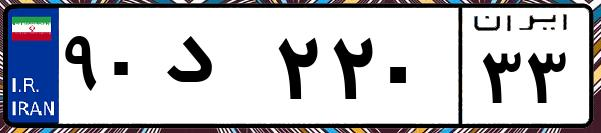0: (385, 28, 445, 110), (110, 28, 158, 98)
2: (270, 28, 330, 110), (330, 28, 385, 110)
3: (475, 38, 525, 113), (525, 38, 570, 115)
9: (57, 26, 110, 100)
د: (158, 20, 270, 120)
